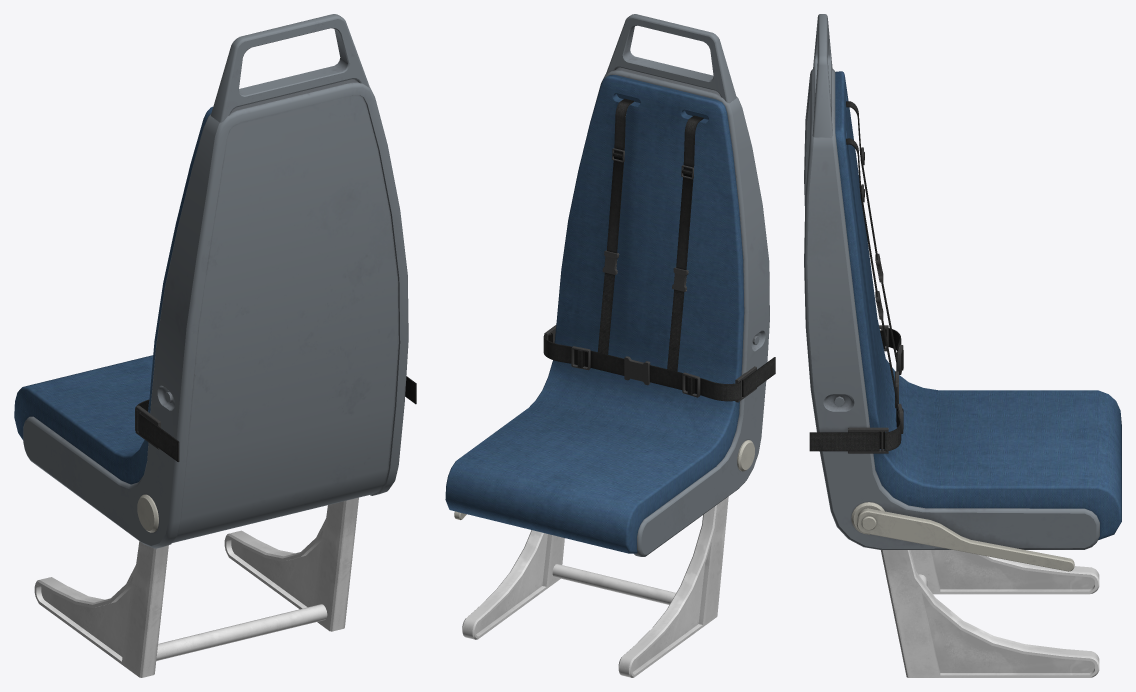
File: L_zhizuiyi.FBX
3 renders of one model, left to right at view 1: azimuth 30°, elevation 25°; view 2: azimuth 150°, elevation 25°; view 3: azimuth 270°, elevation 25°, orthographic. The views are drawn at different scales.
Visible parts, largest first — view 1: L_zhizuiyi; view 2: L_zhizuiyi; view 3: L_zhizuiyi.
Boxes of the visible parts, bbox=[...] form: L_zhizuiyi: bbox=[14, 14, 416, 677]; L_zhizuiyi: bbox=[445, 14, 775, 677]; L_zhizuiyi: bbox=[804, 14, 1121, 677].
Size of the model in its own units: 0.5293 by 1.35 by 0.6522.
